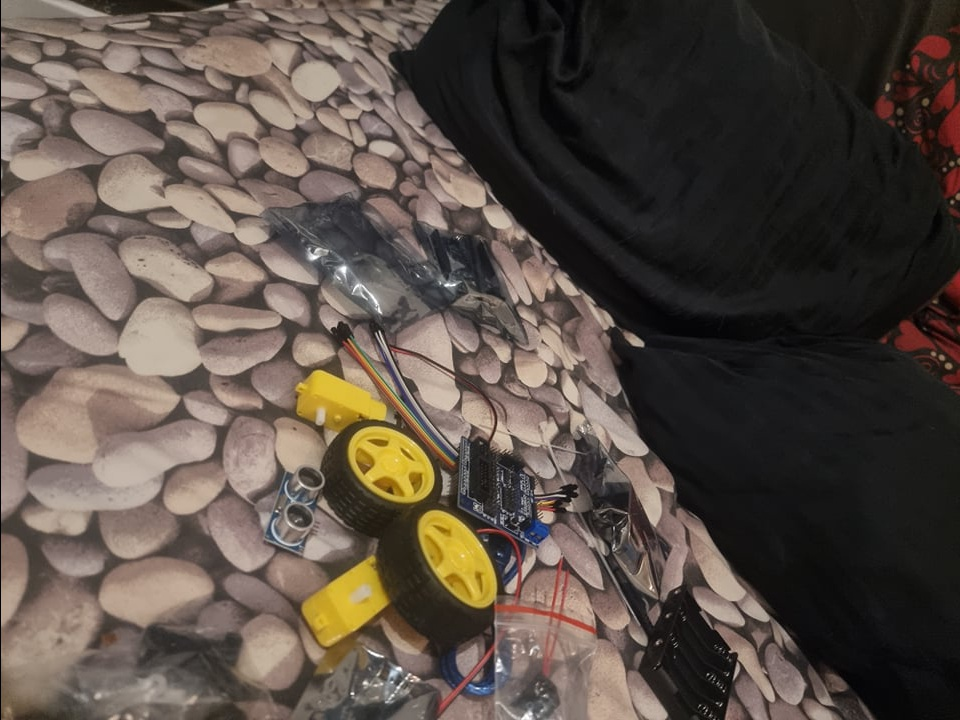5V EXPANSION: (455, 435, 548, 548)
BATTERY BOX: (637, 586, 747, 720)
SENSOR: (268, 464, 324, 556)
